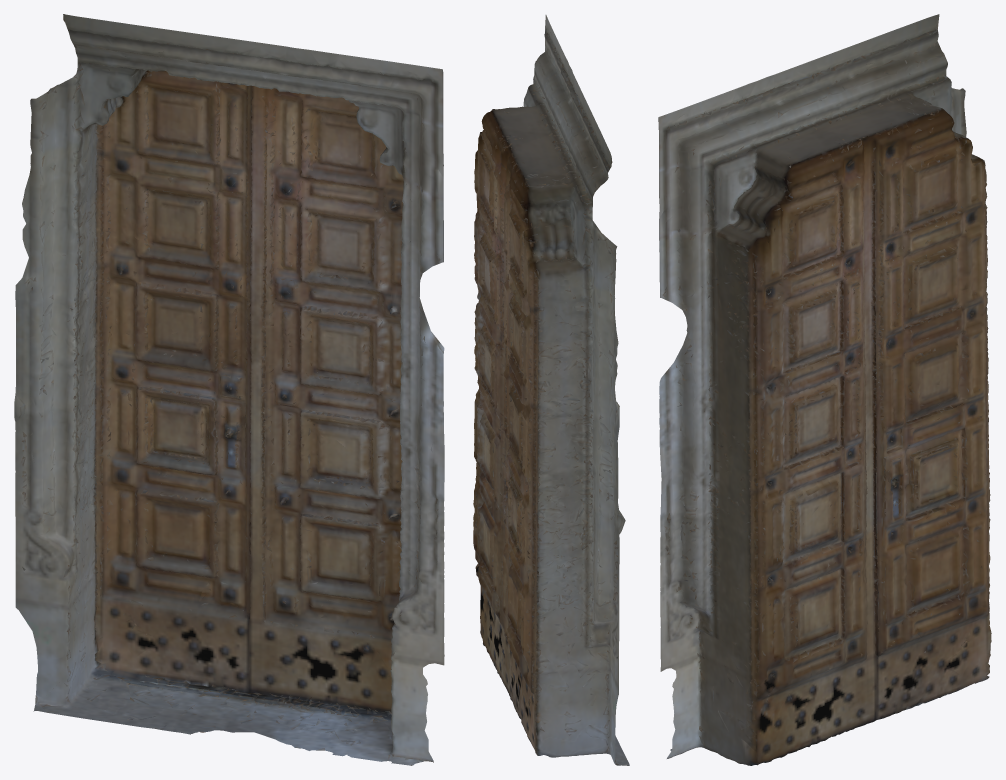
3 views of the same model, side by side, from view 1: azimuth 30°, elevation 25°; view 2: azimuth 150°, elevation 25°; view 3: azimuth 270°, elevation 25° (orthographic). The views are drawn at different scales.
Visible parts, largest first — view 1: low-poly-40k-decimate_0; view 2: low-poly-40k-decimate_0; view 3: low-poly-40k-decimate_0.
Boxes of the visible parts, <box> form: low-poly-40k-decimate_0: <box>14,14,444,765</box>; low-poly-40k-decimate_0: <box>473,15,629,765</box>; low-poly-40k-decimate_0: <box>658,14,991,765</box>.
Size of the model in its own units: 1.78 by 4.14 by 1.94.
Materials: 1 (1 with a texture image).
